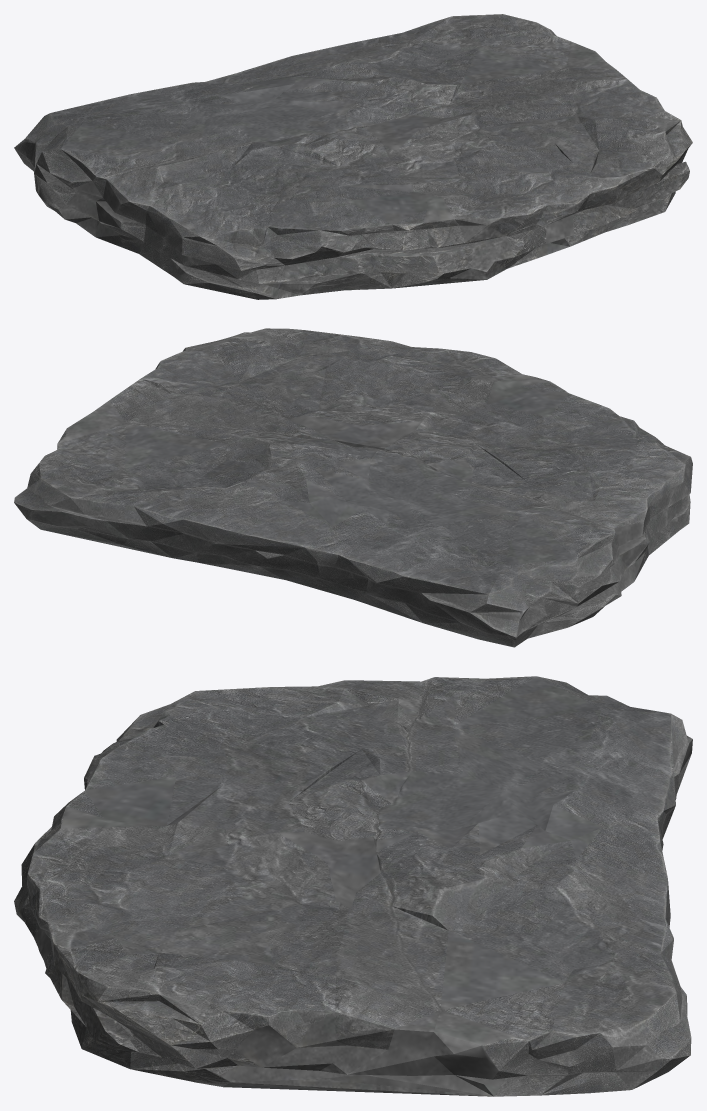
File: co_stratified_slab.glb
3 views of the same model, one above another, from view 1: azimuth 30°, elevation 25°; view 2: azimuth 150°, elevation 25°; view 3: azimuth 270°, elevation 25° (orthographic). The views are drawn at different scales.
Parts seen in each view (by area): view 1: output_unwrapped; view 2: output_unwrapped; view 3: output_unwrapped.
Boxes of the visible parts, left/top/right/bottom form: output_unwrapped: left=14, top=14, right=692, bottom=299; output_unwrapped: left=14, top=328, right=692, bottom=647; output_unwrapped: left=14, top=676, right=692, bottom=1096.
Bounding box in the file's own units: 1.9 × 0.2126 × 1.49.
Materials: 1 (1 with a texture image).
